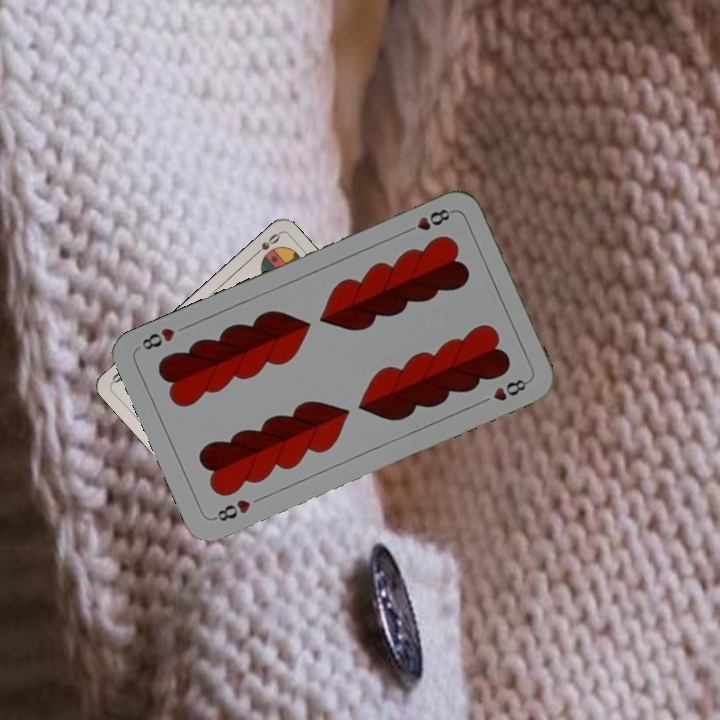H8: (400, 204, 456, 237), (209, 495, 253, 524)
SO: (249, 229, 283, 260)
